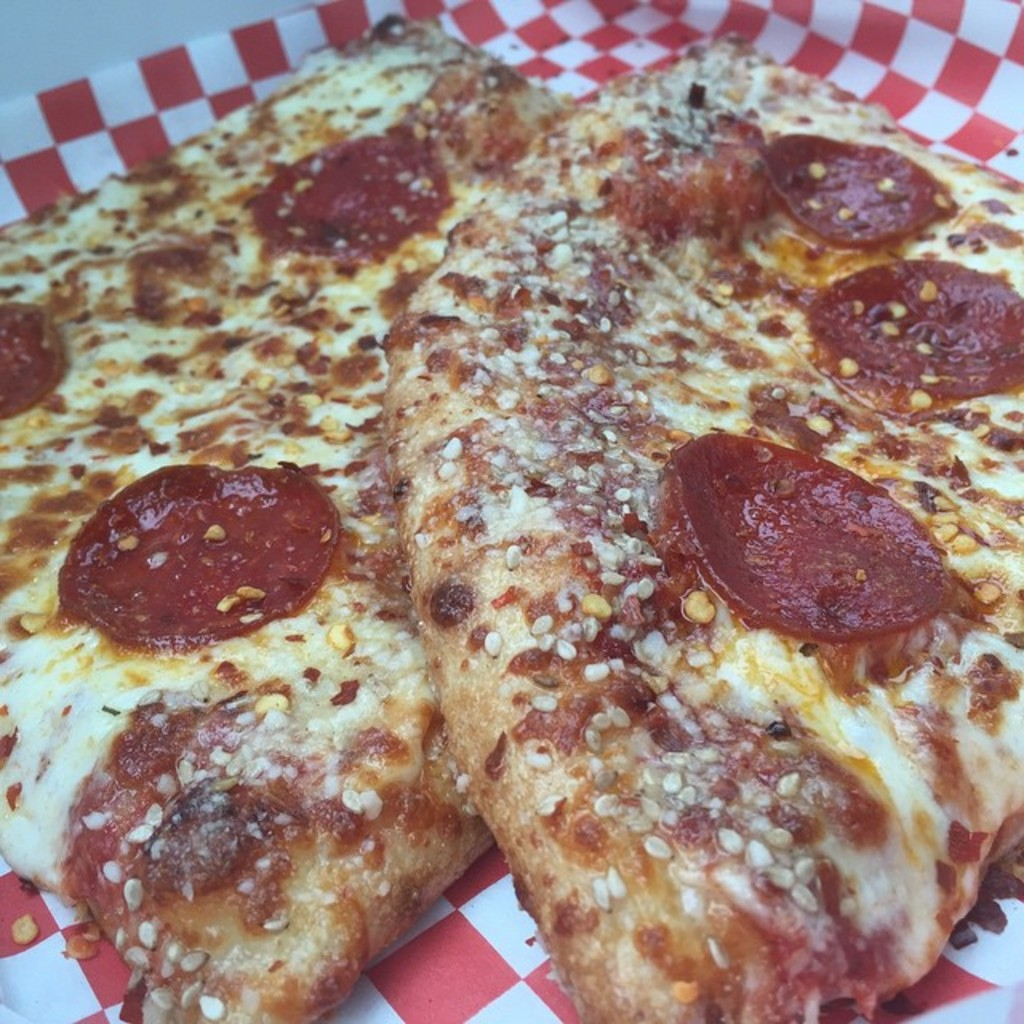Pizza: (0, 12, 582, 1022)
